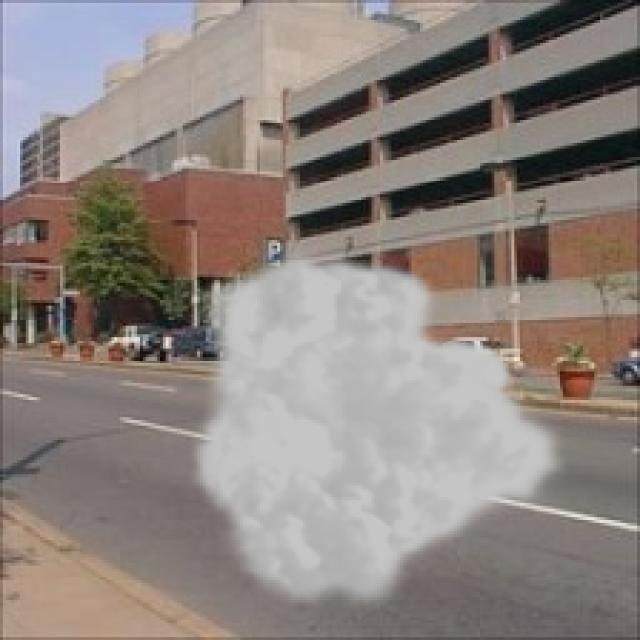smoke: (188, 246, 572, 617)
